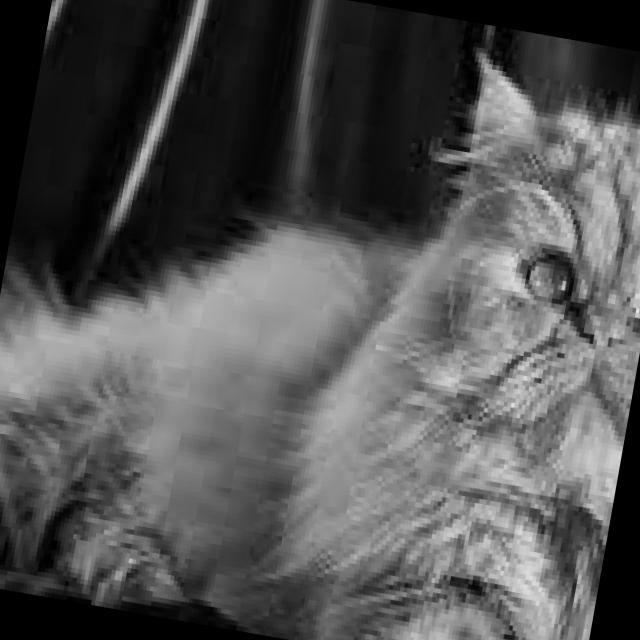iran: (367, 19, 640, 559)
